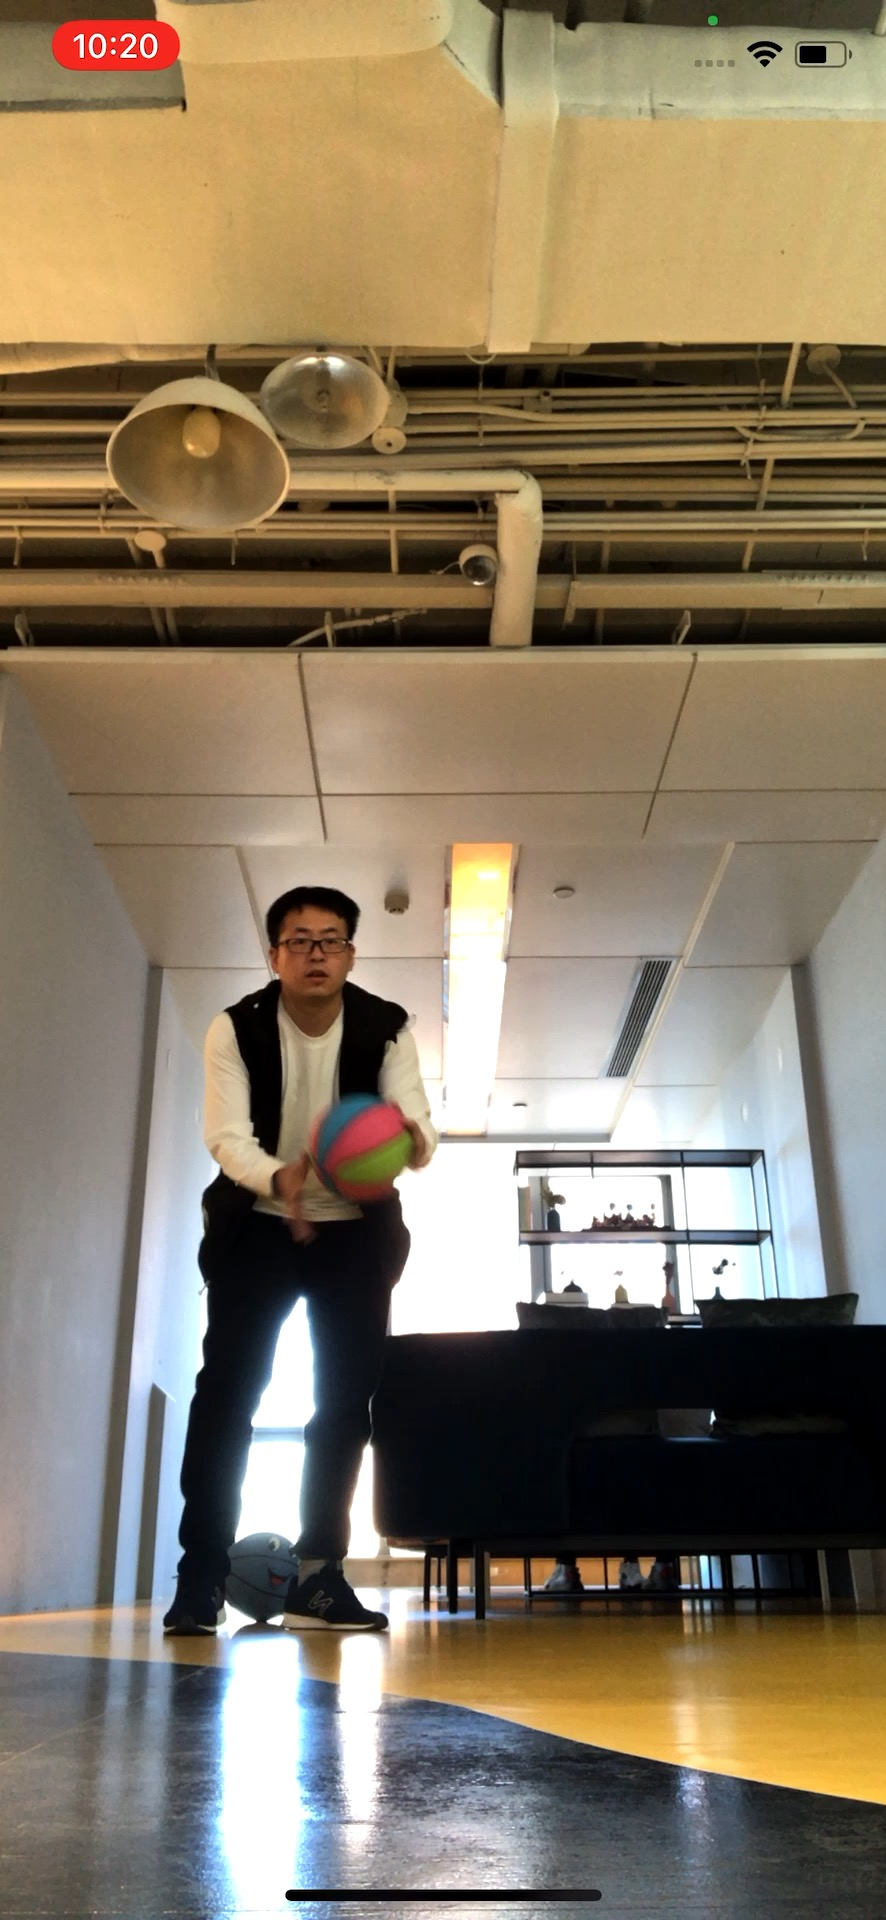ball: (316, 1096, 421, 1198)
